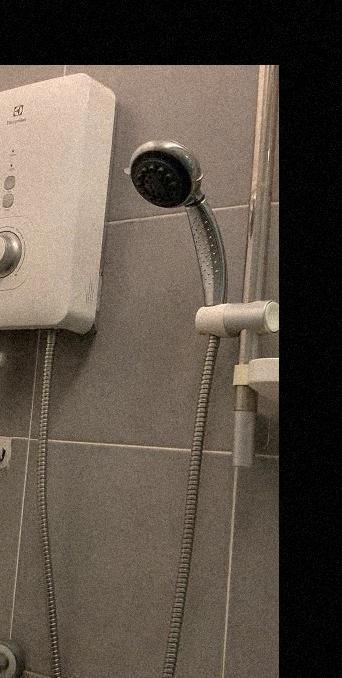Ducha: (0, 65, 278, 678)
